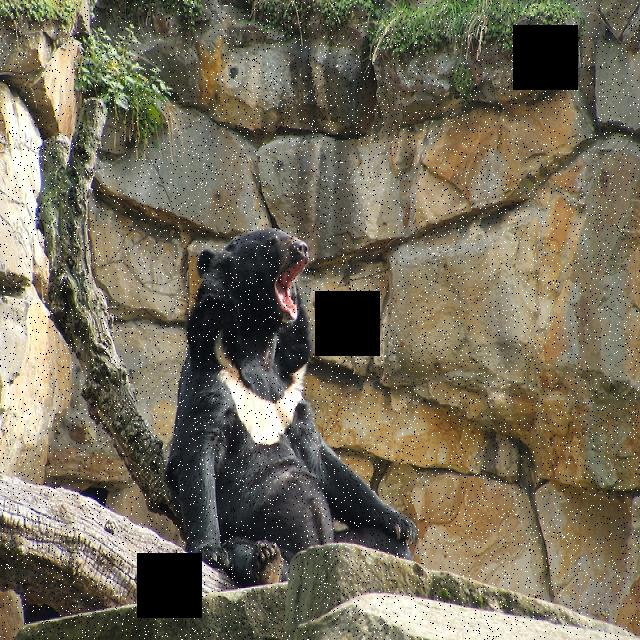Bear: (169, 228, 424, 576)
